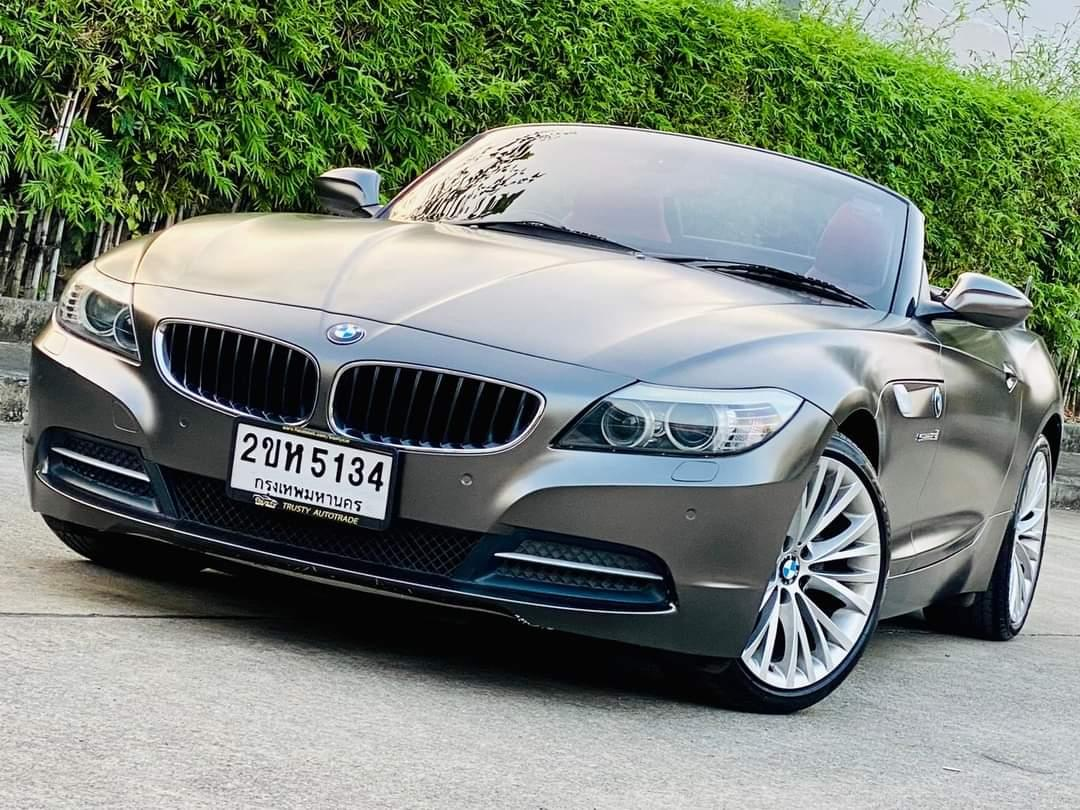license-plate: (228, 414, 406, 538)
